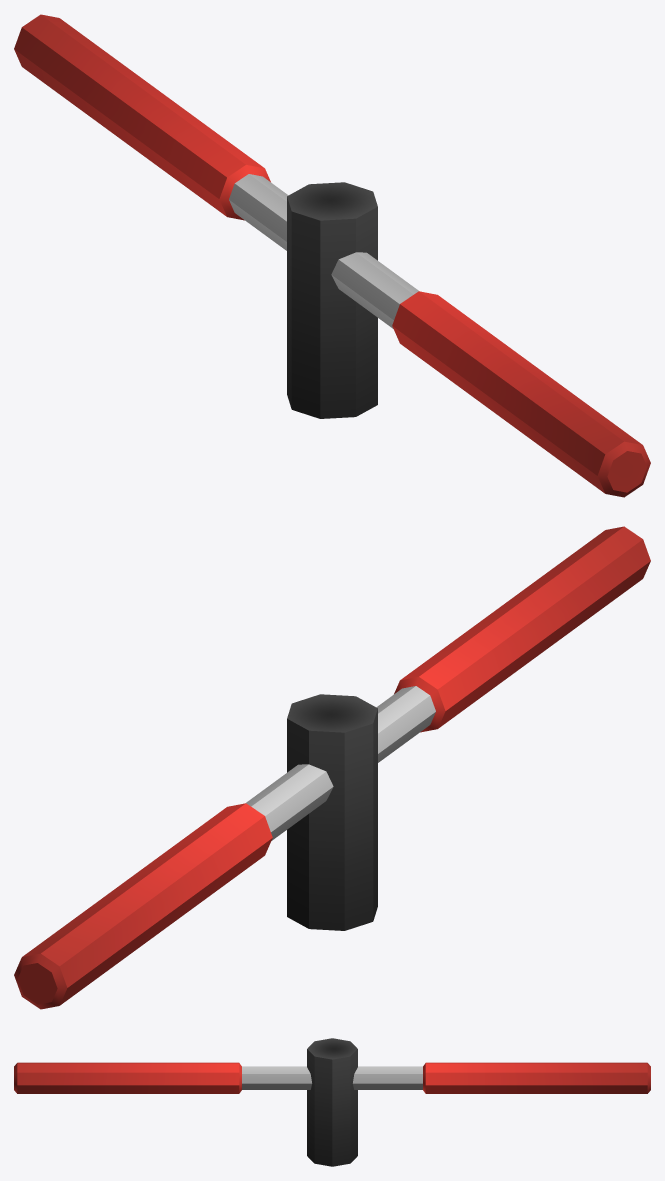
File: hurdle 2.fbx
The picture shows the model from 3 angles, top to bottom: view 1: azimuth 30°, elevation 25°; view 2: azimuth 150°, elevation 25°; view 3: azimuth 270°, elevation 25°; orthographic projection. The views are drawn at different scales.
Visible parts, largest first — view 1: hurdle, hurdle_base; view 2: hurdle, hurdle_base; view 3: hurdle, hurdle_base.
Boxes of the visible parts, bbox=[...] form: hurdle: bbox=[14, 14, 650, 497]; hurdle_base: bbox=[287, 182, 377, 418]; hurdle: bbox=[14, 526, 650, 1009]; hurdle_base: bbox=[287, 694, 377, 930]; hurdle: bbox=[14, 1062, 650, 1093]; hurdle_base: bbox=[307, 1038, 357, 1166].
Size of the model in its own units: 3.73 by 8.67 by 46.73.
1 material, 1 textured.
